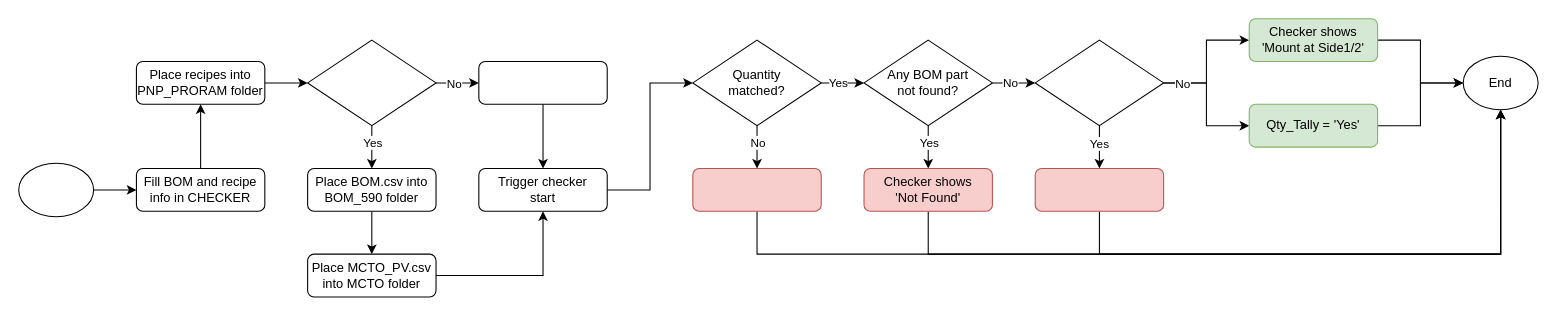
Image size: 1557x316. Some labels were removed from this diagram. The shapes that lost their labels are listed below. From the top down, each one's centre as x and y in pixels, then its label:
At pixel 371 82: "SAP_SOURCE = 'manual' ?".
At pixel 542 82: "Load BOM/MCTO/PV from SAP DB".
At pixel 1099 82: "Any Extra Part Programmed?".
At pixel 56 189: "Start".
At pixel 756 189: "Qty_Tally = 'No'".
At pixel 1099 189: "Checker shows 'Extra Mount'".
